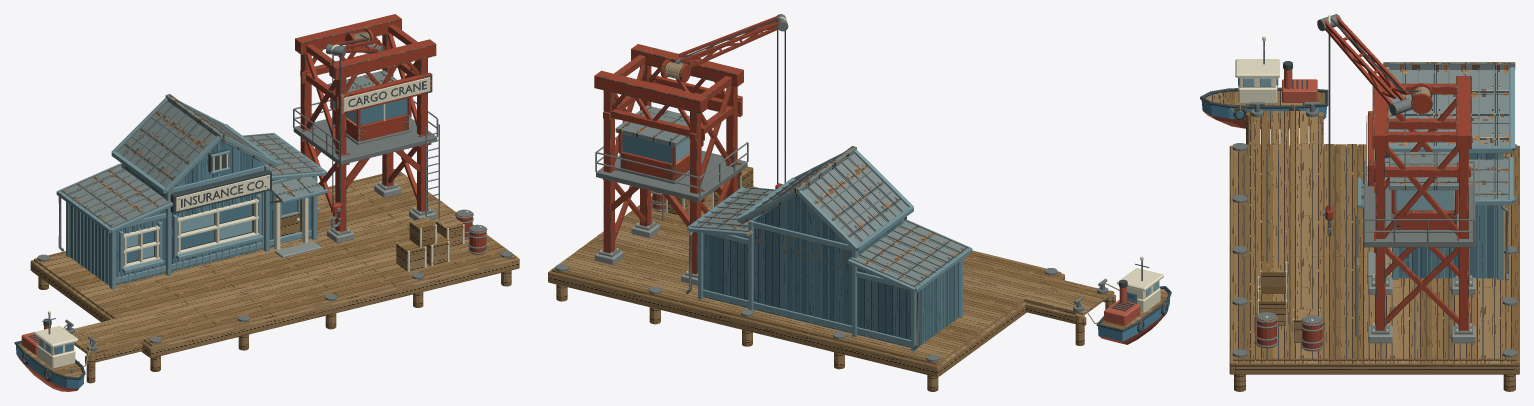
File: insurance.glb
3 renders of one model, left to right at view 1: azimuth 30°, elevation 25°; view 2: azimuth 150°, elevation 25°; view 3: azimuth 270°, elevation 25°, orthographic. The views are drawn at different scales.
Parts seen in each view (by area): view 1: INS_DockGeometry, INS_CraneGeometry, INS_OfficeGeometry, INS_RoofGeometry, INS_PropsGeometry, INS_TugGeometry; view 2: INS_DockGeometry, INS_CraneGeometry, INS_OfficeGeometry, INS_RoofGeometry, INS_TugGeometry, INS_PropsGeometry; view 3: INS_DockGeometry, INS_CraneGeometry, INS_RoofGeometry, INS_TugGeometry, INS_OfficeGeometry, INS_PropsGeometry.
Boxes of the visible parts, x1,y1,x2,y2 form: INS_DockGeometry: (30,169,519,383); INS_CraneGeometry: (293,14,439,243); INS_OfficeGeometry: (58,141,328,289); INS_RoofGeometry: (56,94,326,233); INS_PropsGeometry: (63,209,487,368); INS_TugGeometry: (14,311,85,391); INS_DockGeometry: (548,193,1115,391); INS_CraneGeometry: (594,14,788,285); INS_OfficeGeometry: (685,195,963,351); INS_RoofGeometry: (687,146,972,292); INS_TugGeometry: (1096,256,1171,344); INS_PropsGeometry: (651,166,1119,323); INS_DockGeometry: (1229,111,1519,391); INS_CraneGeometry: (1317,14,1475,343); INS_RoofGeometry: (1383,62,1515,205); INS_TugGeometry: (1200,36,1328,128); INS_OfficeGeometry: (1357,151,1508,280); INS_PropsGeometry: (1220,93,1323,351).
Bounding box in the file's own units: 17.25 × 8.6 × 8.44.
14 materials, 4 textured.
